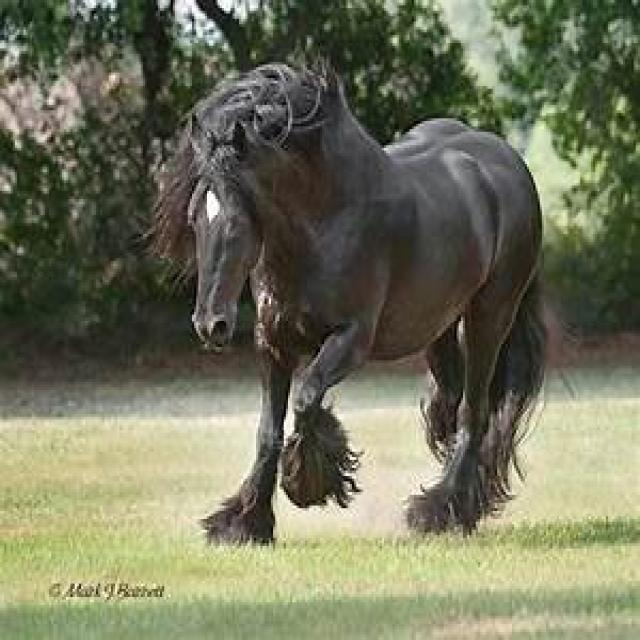horse: (151, 65, 545, 542)
